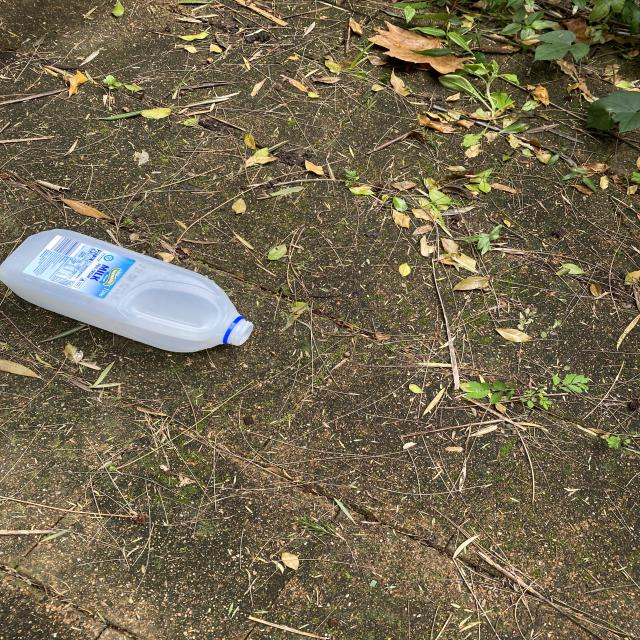bottle: (0, 225, 260, 352)
